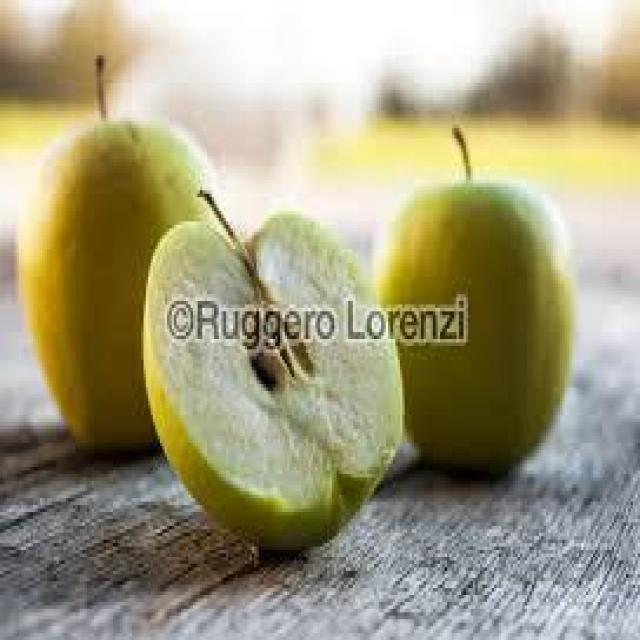Fresh Apple: (20, 103, 198, 465), (370, 180, 573, 475)
Rotten: (144, 203, 404, 542)
